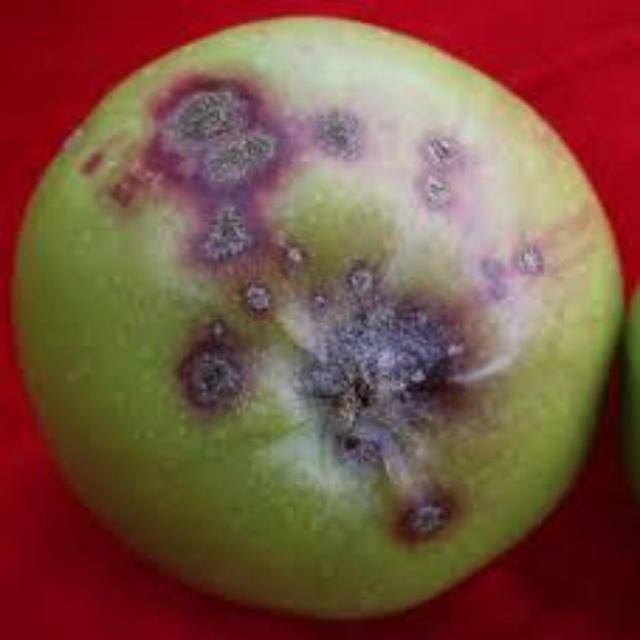Rotten Apple: (18, 0, 601, 602)
